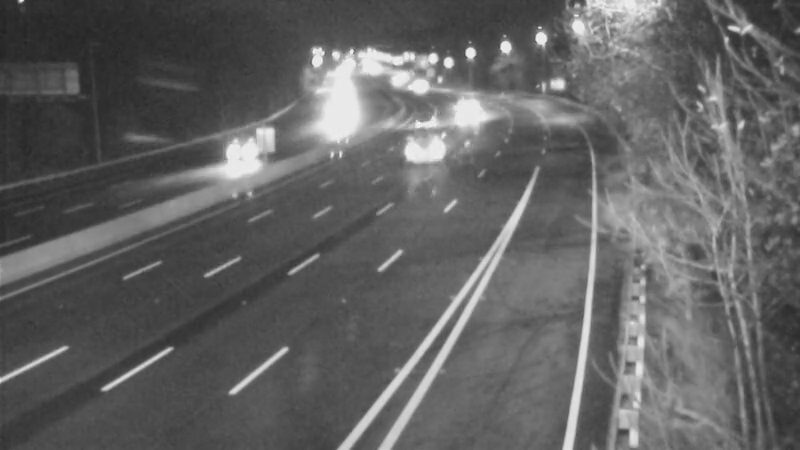vehicle: (391, 112, 471, 192), (439, 75, 489, 125), (445, 92, 495, 142), (398, 95, 448, 145), (215, 124, 265, 174)
